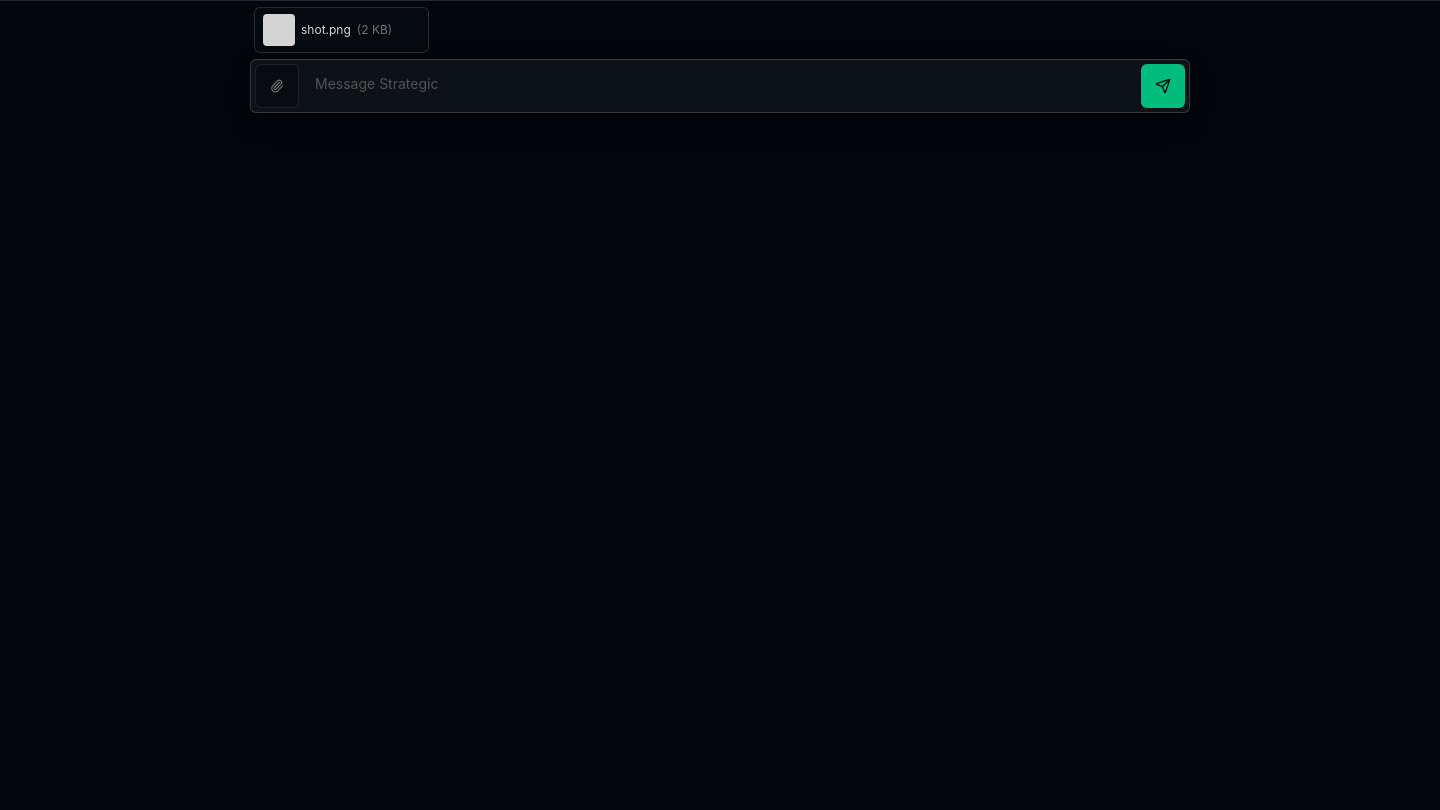
it: MessagesComposer — clickable pending image preview › Remove in the preview editor discards the attachment and closes the modal
Click the button with aria-label "Open shot.png preview" at (328, 30), box left=255, top=8, right=400, bottom=52
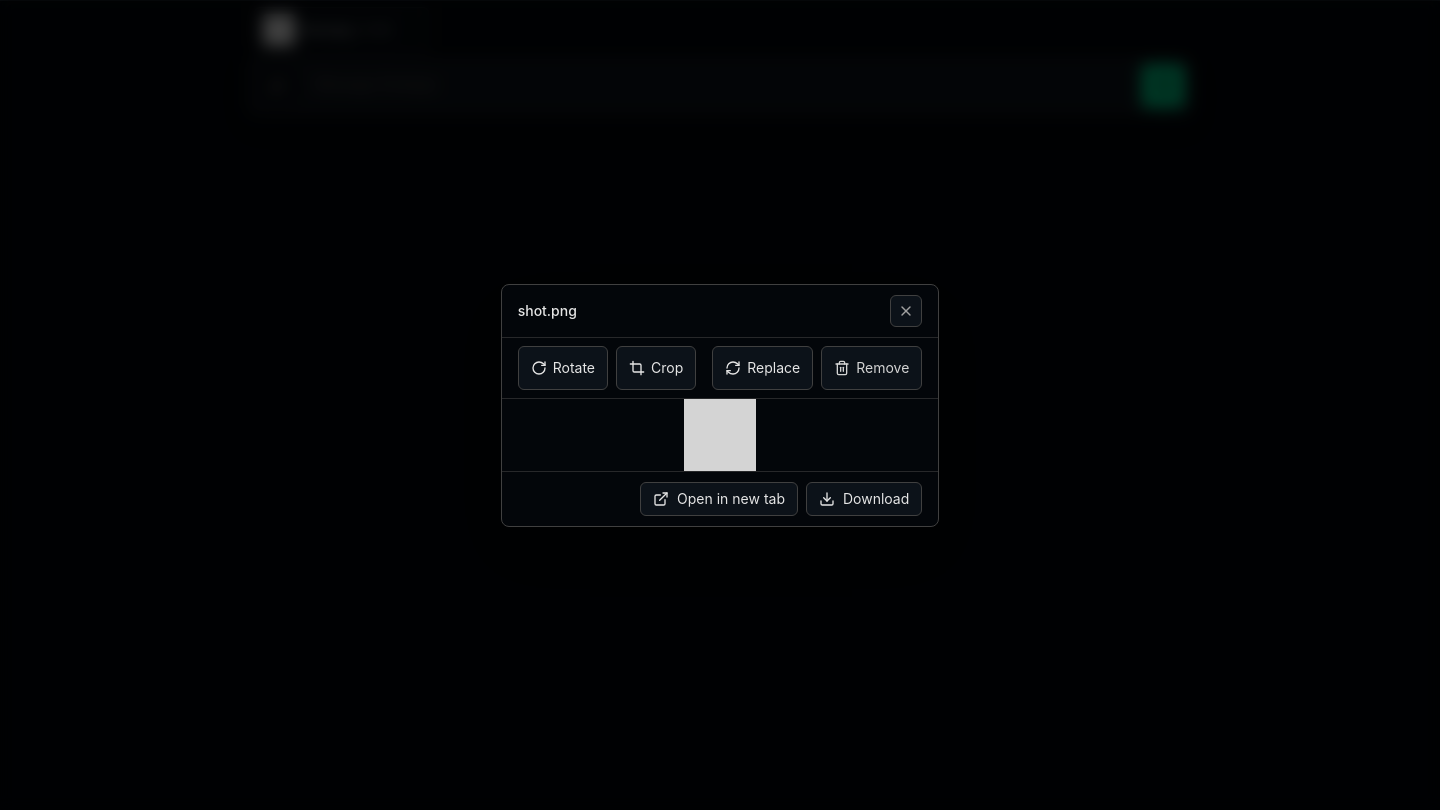
Click the button with aria-label "Remove image" at (872, 368), box left=821, top=346, right=922, bottom=390
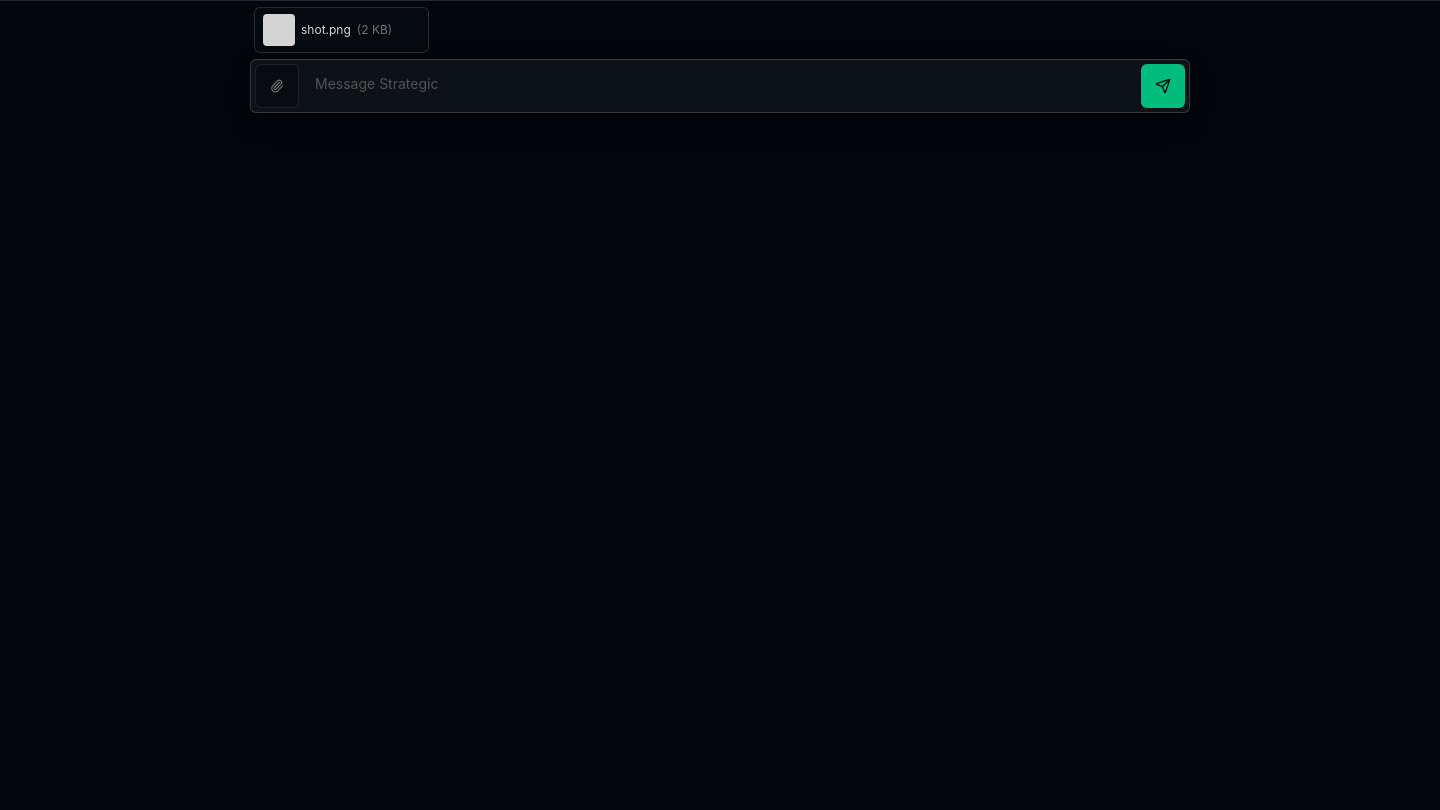
Check: the dialog is gone
